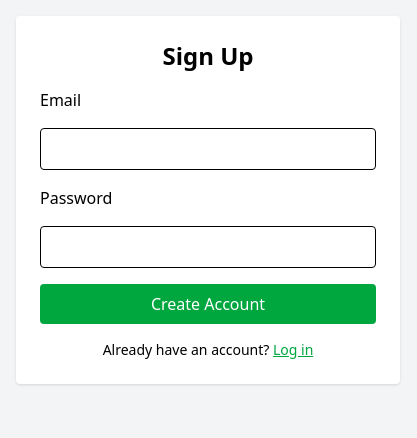
auth flow › shows an error for duplicate signup email
Type "test@example.com" into the field with test id "auth-signup-email" at (208, 149), box x1=40 y1=128 x2=376 y2=170
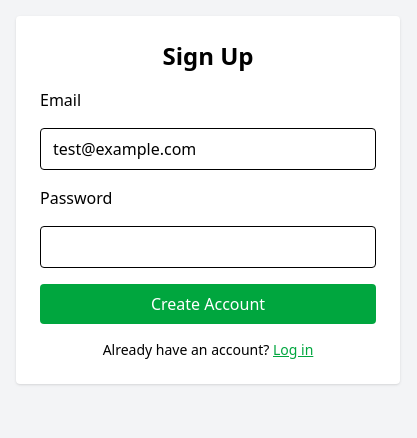
Type "anything" into the password field with test id "auth-signup-password" at (208, 247), box x1=40 y1=226 x2=376 y2=268
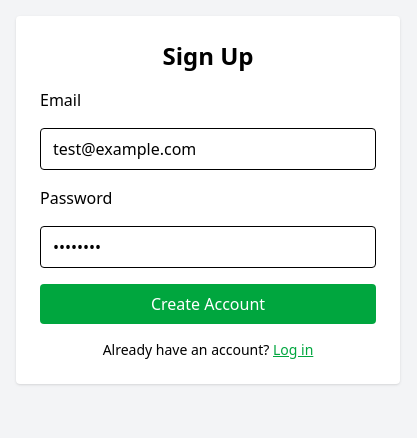
Click the button with test id "auth-signup-submit" at (208, 304), box x1=40 y1=284 x2=376 y2=324
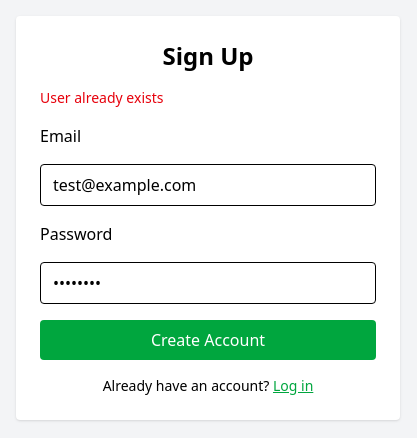
Expected: the text "User already exists" is shown, x1=40 y1=88 x2=164 y2=107
